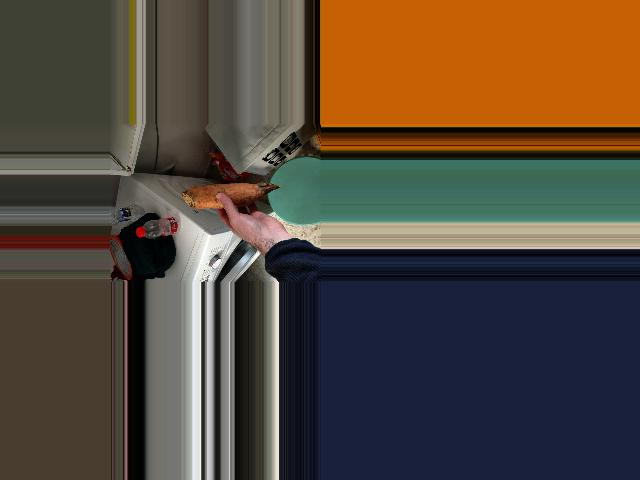sweet_potato: (178, 176, 277, 214)
